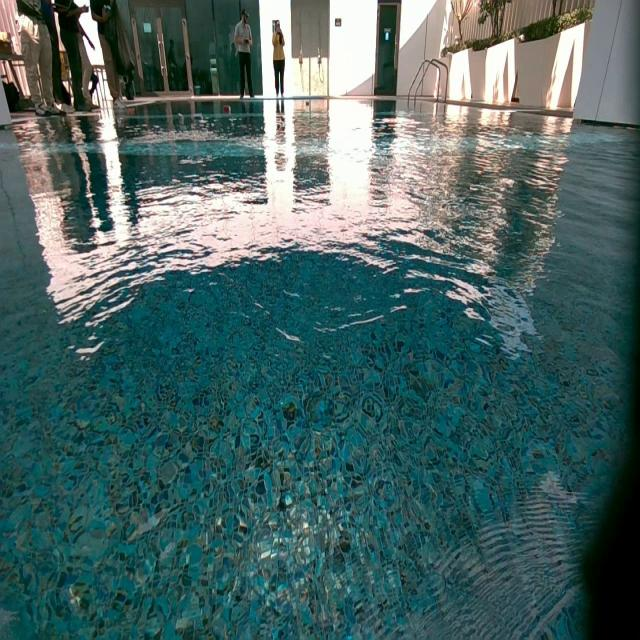Cans: (193, 114, 204, 122), (129, 107, 136, 118), (223, 106, 230, 114)
